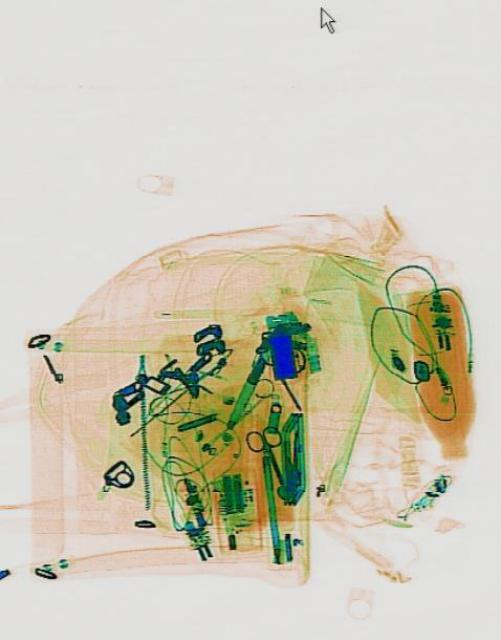Scissors: (241, 416, 298, 494)
